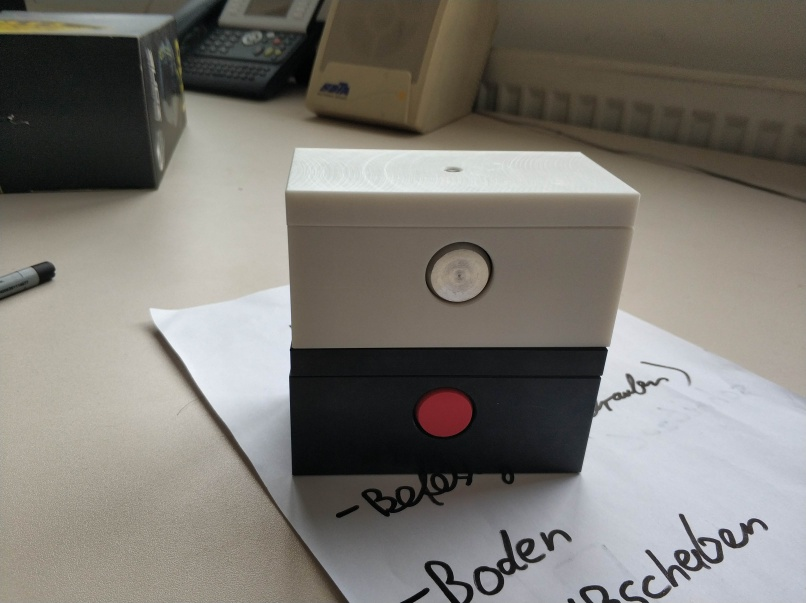black+black+red: (285, 345, 608, 478)
white+white+silver: (283, 143, 642, 350)
